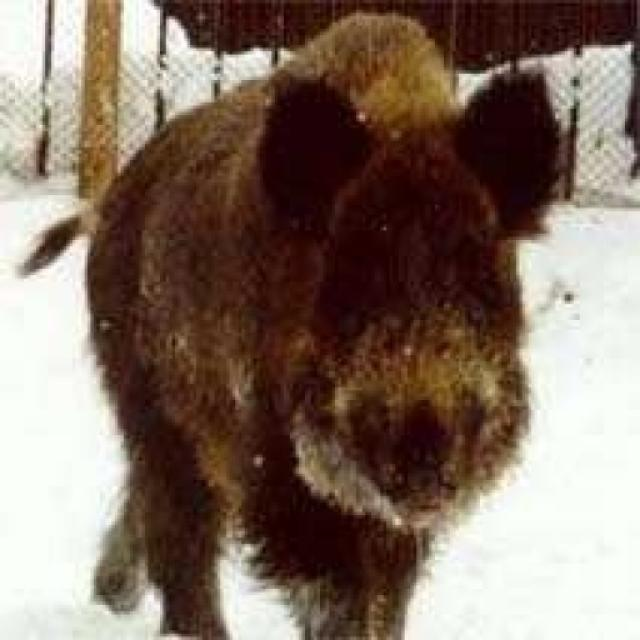pig: (82, 0, 546, 640)
